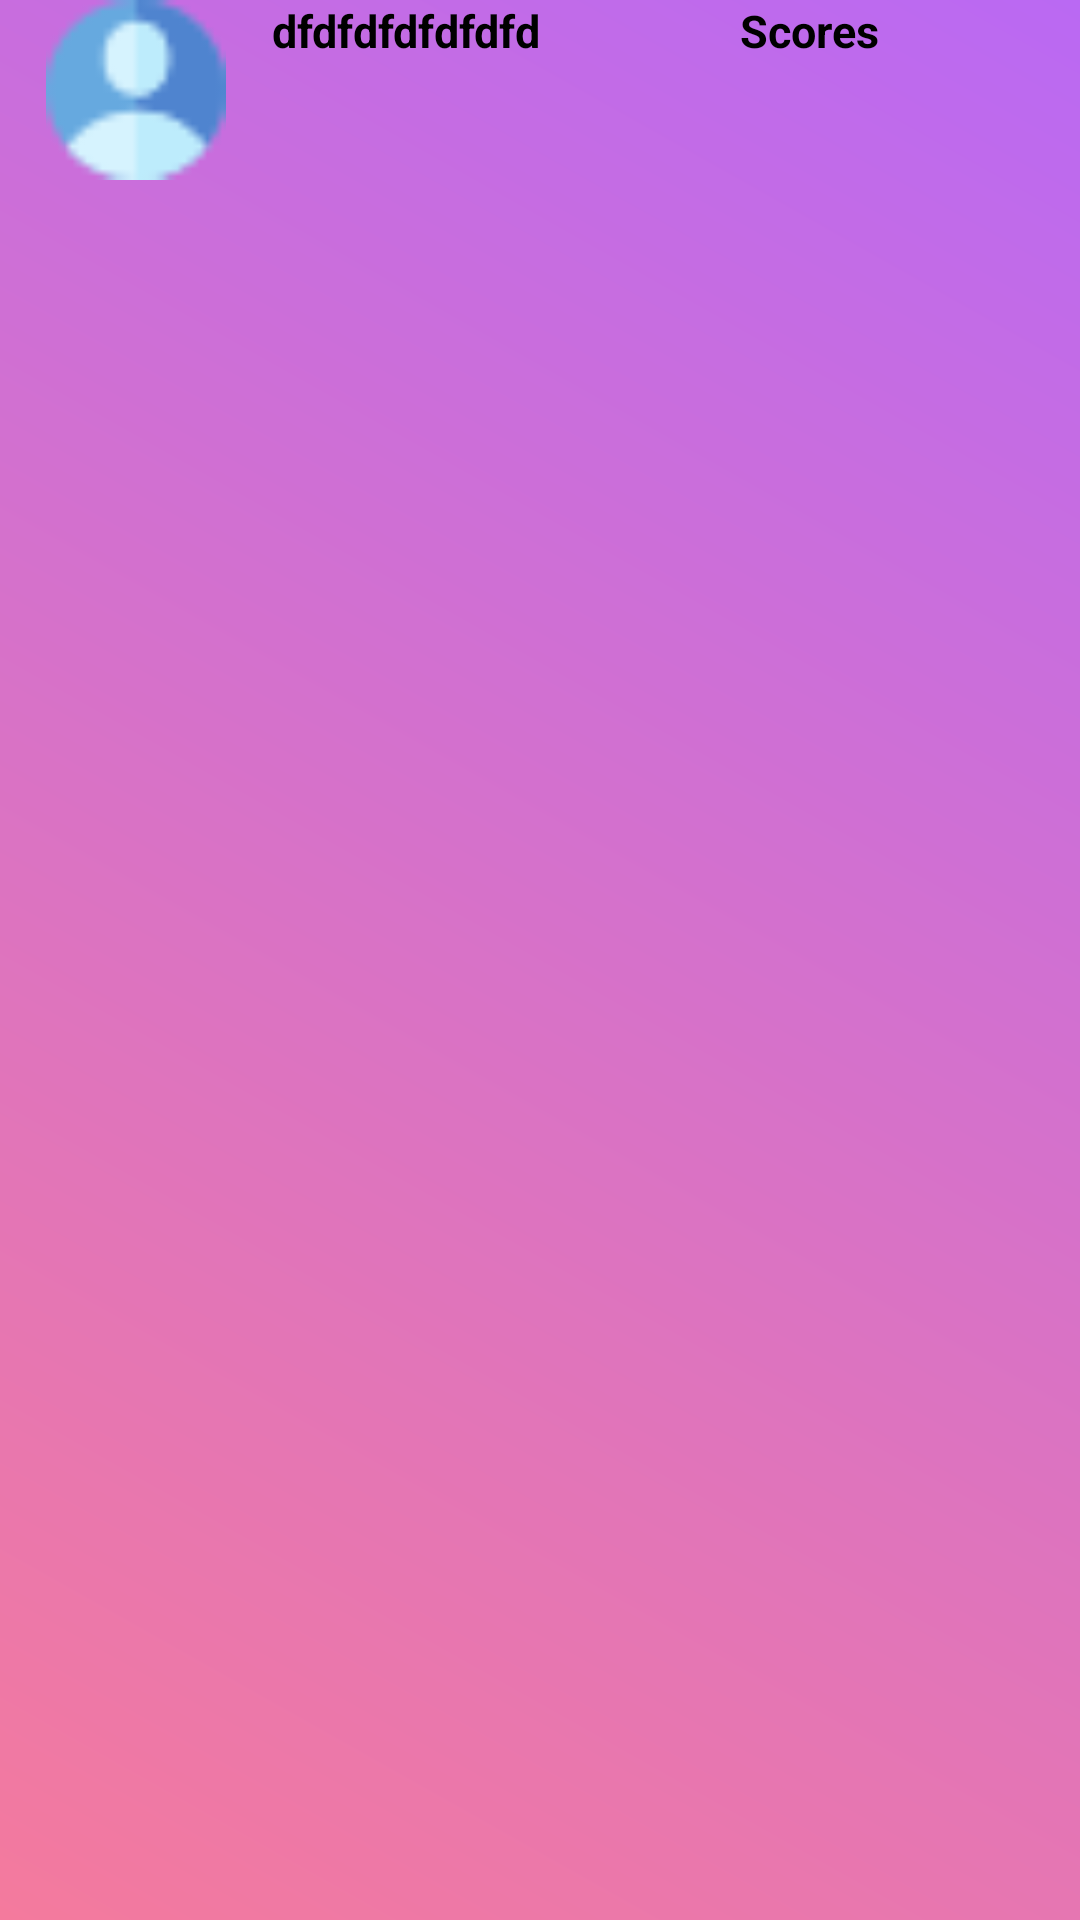

Named icons in this screenshot (1080px×1920px) and their centers, (x,y):
account: (136,90)
